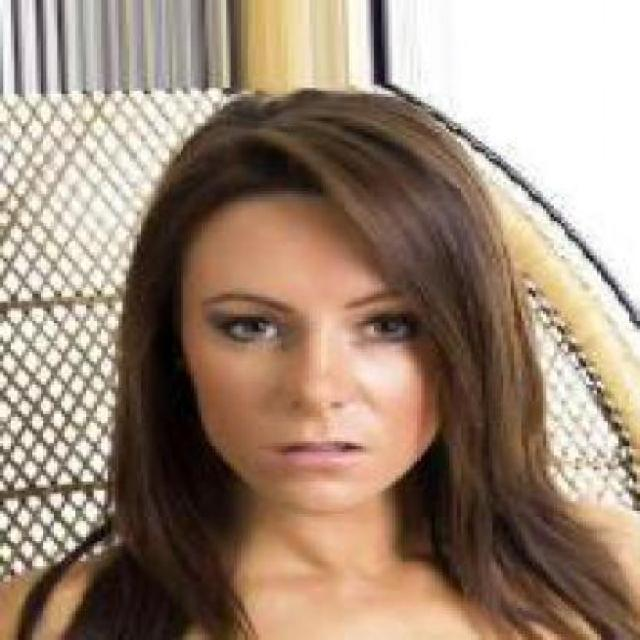closed-mouth: (276, 436, 358, 462)
